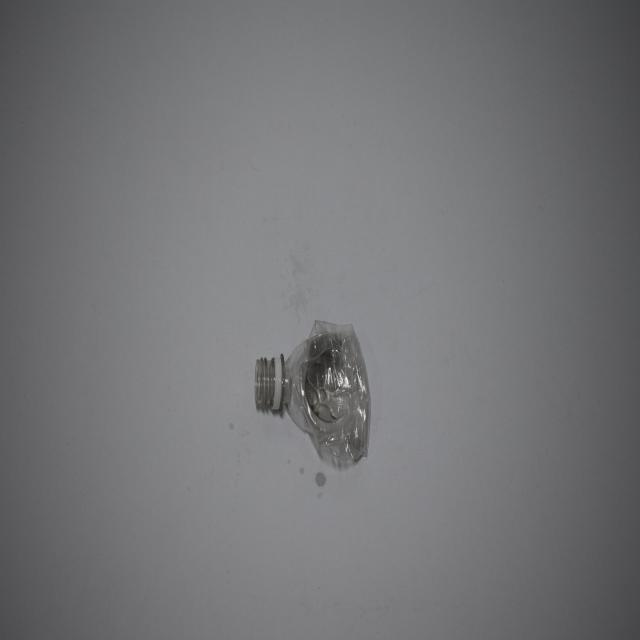bottle: (241, 317, 387, 480)
